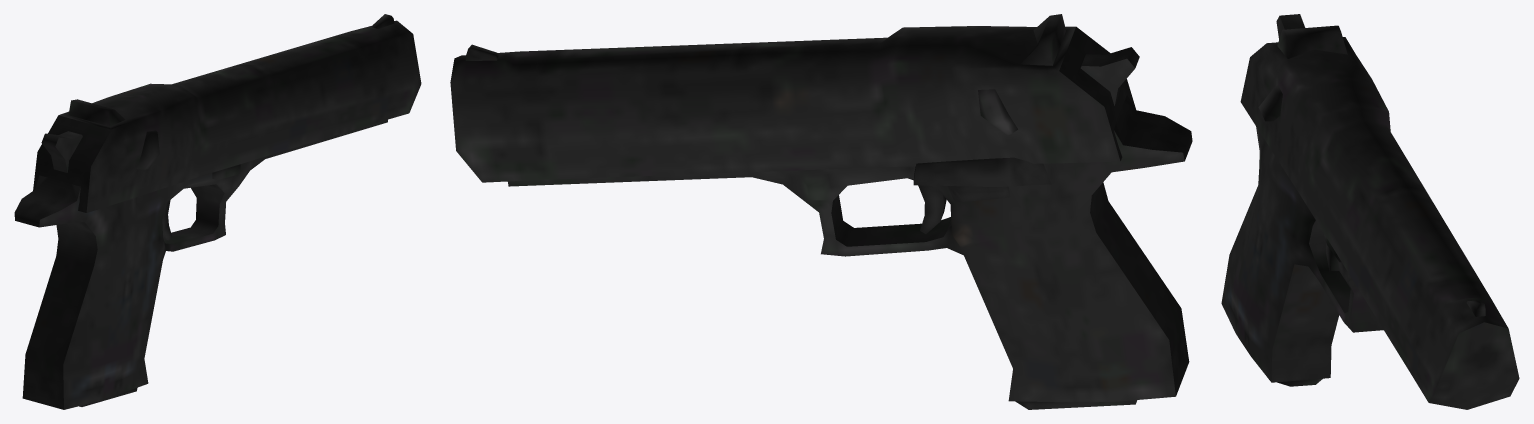
The model's file is nickfury_pistol.glb.
3 views of the same model, side by side, from view 1: azimuth 30°, elevation 25°; view 2: azimuth 150°, elevation 25°; view 3: azimuth 270°, elevation 25° (orthographic). The views are drawn at different scales.
Parts seen in each view (by area): view 1: weapons/nickfury_pistol_0; view 2: weapons/nickfury_pistol_0; view 3: weapons/nickfury_pistol_0.
Boxes of the visible parts, x1=… form: weapons/nickfury_pistol_0: x1=14, y1=14, x2=421, y2=409; weapons/nickfury_pistol_0: x1=450, y1=14, x2=1192, y2=409; weapons/nickfury_pistol_0: x1=1221, y1=14, x2=1519, y2=409.
Size of the model in its own units: 2 by 1.16 by 0.9162.
1 material, 1 textured.
